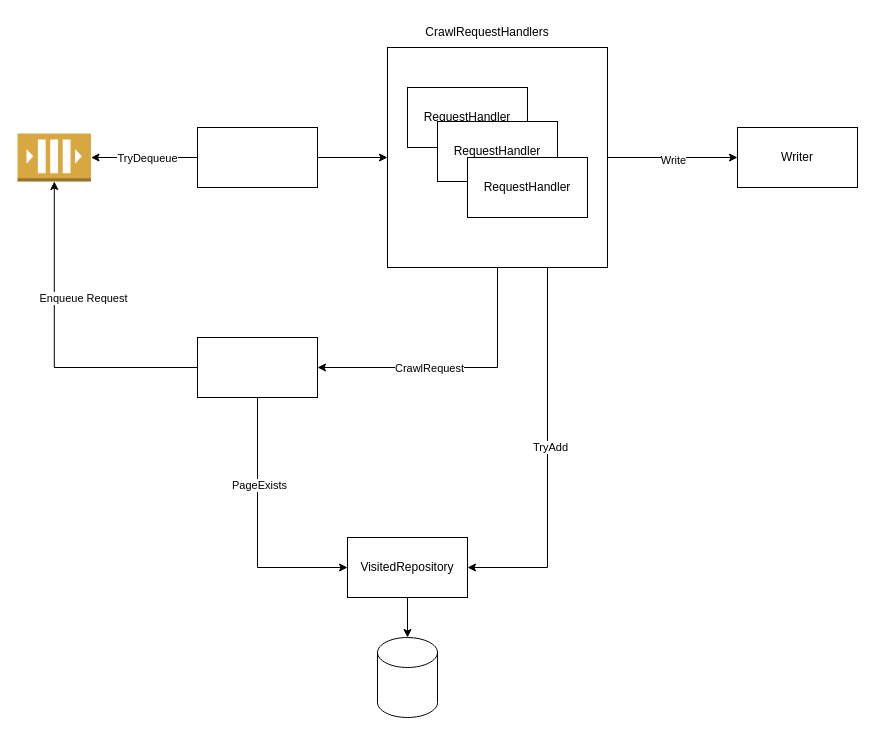
Image size: 875x735. Some labels were removed from this diagram. The centre of each missing label's shape, as x and y in pixels:
"Dispatcher" belongs at [257,157].
"RequestSender" belongs at [257,367].
"Visited" belongs at [407,677].
